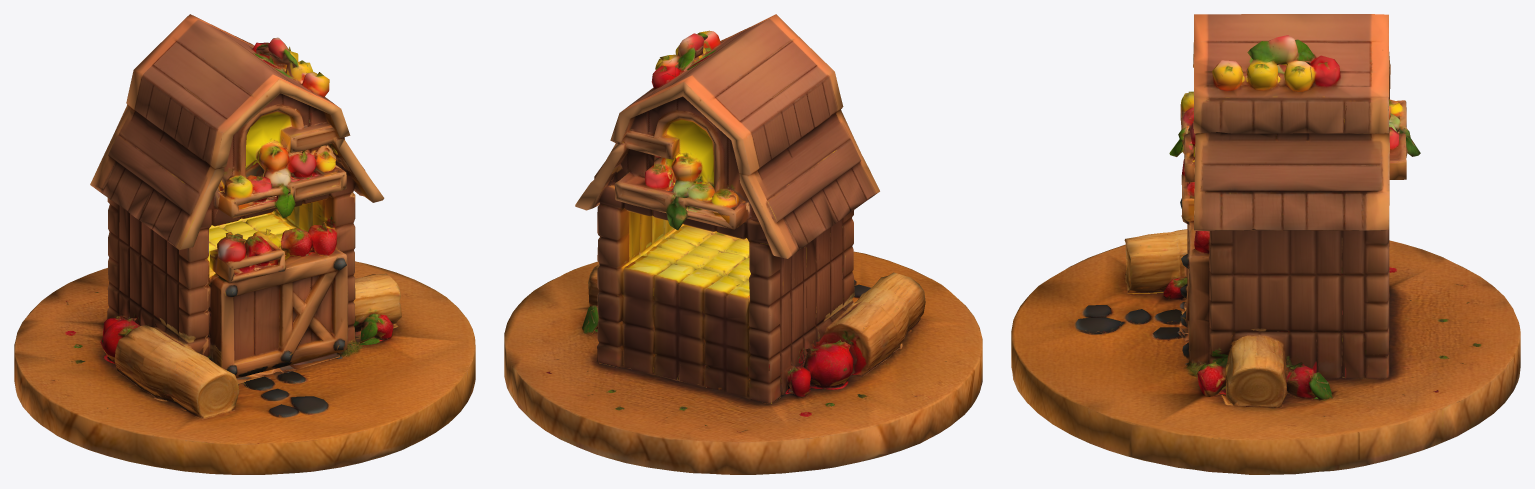
File: Meshy_AI_Fruitful_Barnyard_0201132319_texture.fbx
3 views of the same model, side by side, from view 1: azimuth 30°, elevation 25°; view 2: azimuth 150°, elevation 25°; view 3: azimuth 270°, elevation 25° (orthographic). The views are drawn at different scales.
Parts seen in each view (by area): view 1: Mesh1.0; view 2: Mesh1.0; view 3: Mesh1.0.
Boxes of the visible parts, <box> form: Mesh1.0: <box>14,14,475,474</box>; Mesh1.0: <box>504,14,982,474</box>; Mesh1.0: <box>1011,14,1520,474</box>.
Bounding box in the file's own units: 201 × 154 × 200.
1 material, 1 textured.
